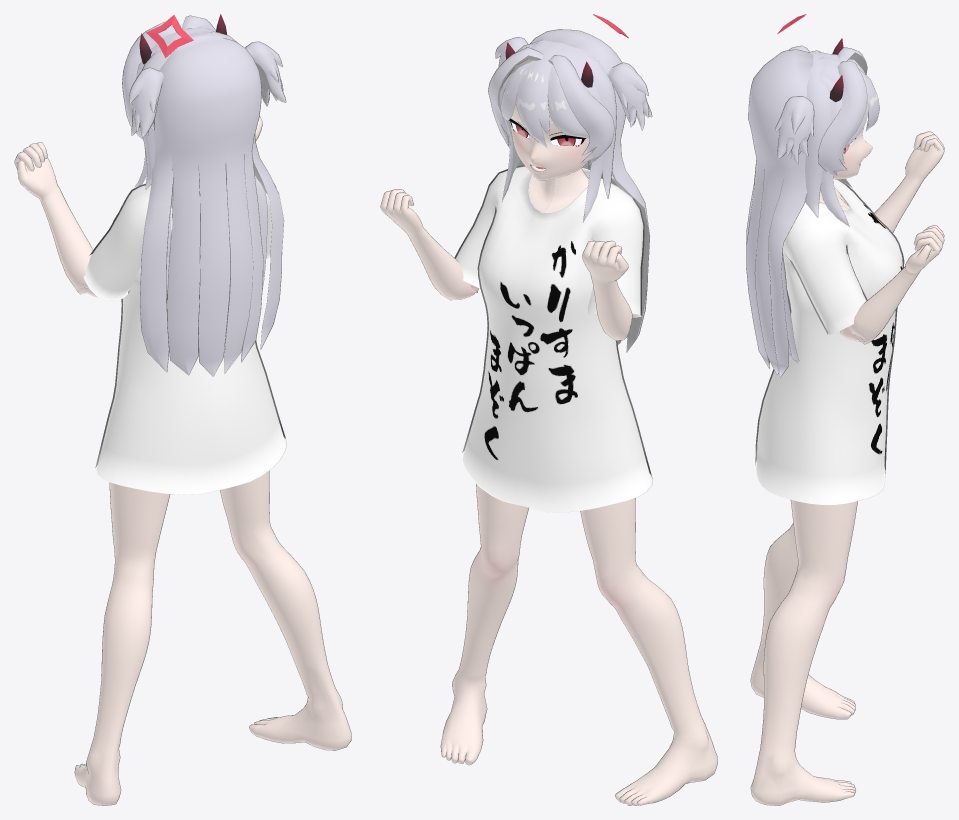
The model's file is warawachan.glb.
3 renders of one model, left to right at view 1: azimuth 30°, elevation 25°; view 2: azimuth 150°, elevation 25°; view 3: azimuth 270°, elevation 25°, orthographic. The views are drawn at different scales.
Visible parts, largest first — view 1: 前髪, 体, 平面.001, 平面; view 2: 平面.001, 体, 前髪, 顔; view 3: 平面.001, 体, 前髪, 顔.
Boxes of the visible parts, x1,y1,x2,y2 form: 前髪: [122, 15, 286, 376]; 体: [14, 116, 351, 805]; 平面.001: [83, 183, 286, 494]; 平面: [146, 15, 193, 57]; 平面.001: [454, 165, 652, 512]; 体: [380, 168, 717, 805]; 前髪: [488, 29, 652, 352]; 顔: [505, 42, 593, 180]; 平面.001: [755, 179, 904, 505]; 体: [750, 131, 944, 805]; 前髪: [746, 45, 879, 378]; 顔: [829, 38, 872, 179].
Size of the model in its own units: 0.4852 by 1.36 by 0.3365.
6 materials, 4 textured.
